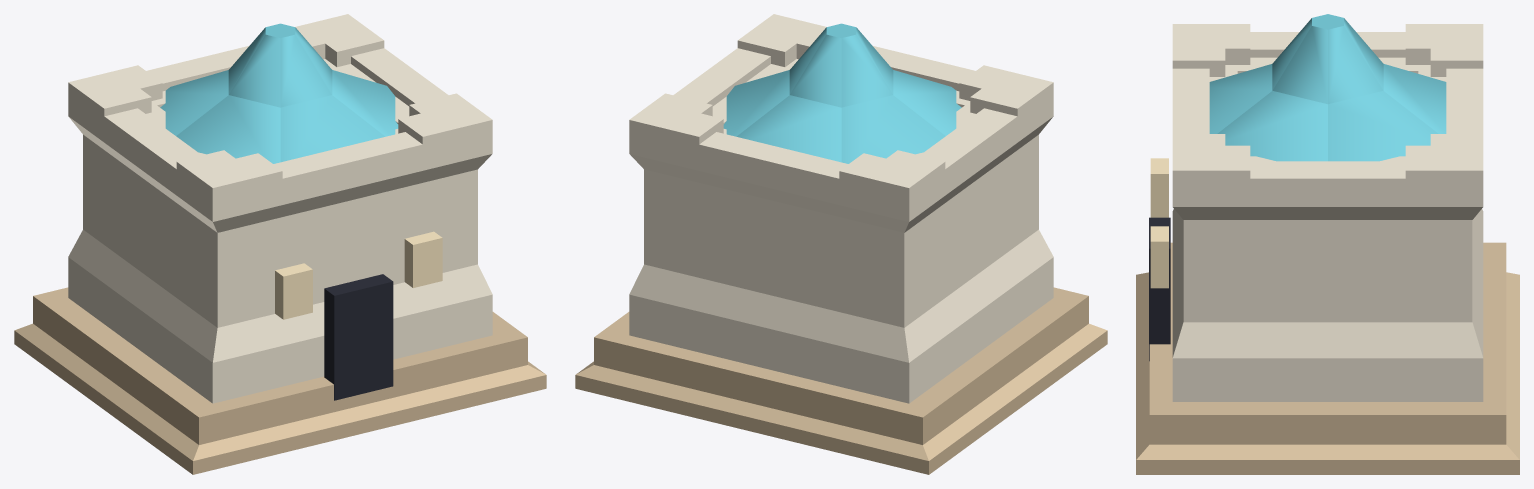
The model's file is middle_eastern-house.glb.
The picture shows the model from 3 angles, left to right: view 1: azimuth 30°, elevation 25°; view 2: azimuth 150°, elevation 25°; view 3: azimuth 270°, elevation 25°; orthographic projection. The views are drawn at different scales.
Parts seen in each view (by area): view 1: body, glow; view 2: body; view 3: body, glow.
Part boxes in pixels (x1,y1,x2,y2): body: [14, 14, 546, 474]; glow: [275, 231, 442, 319]; body: [575, 14, 1107, 474]; body: [1136, 14, 1519, 474]; glow: [1150, 158, 1168, 288].
Bounding box in the file's own units: 1.2 × 1.09 × 1.05.
